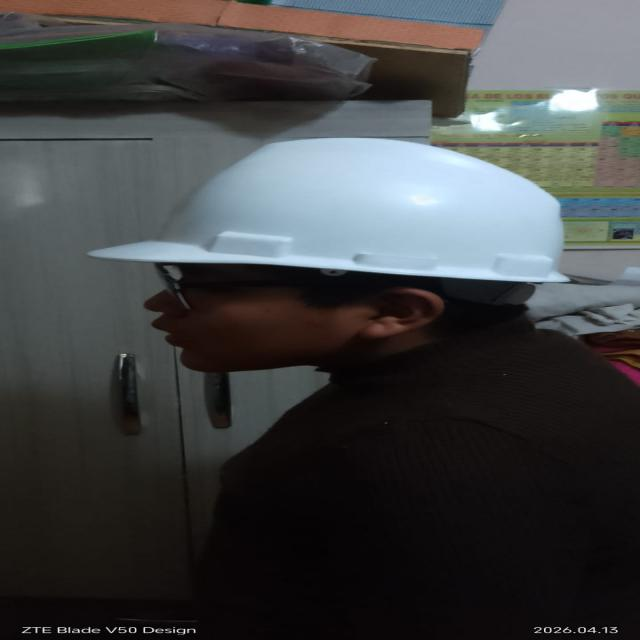casco: (55, 113, 602, 294)
